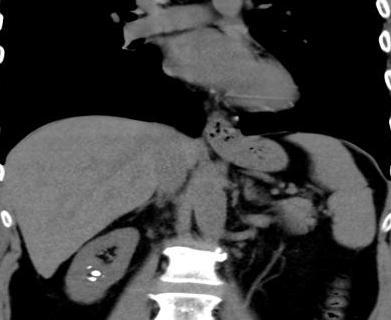Tas_Var: (88, 270, 101, 278), (84, 276, 98, 282), (84, 264, 94, 270), (102, 274, 105, 278)
